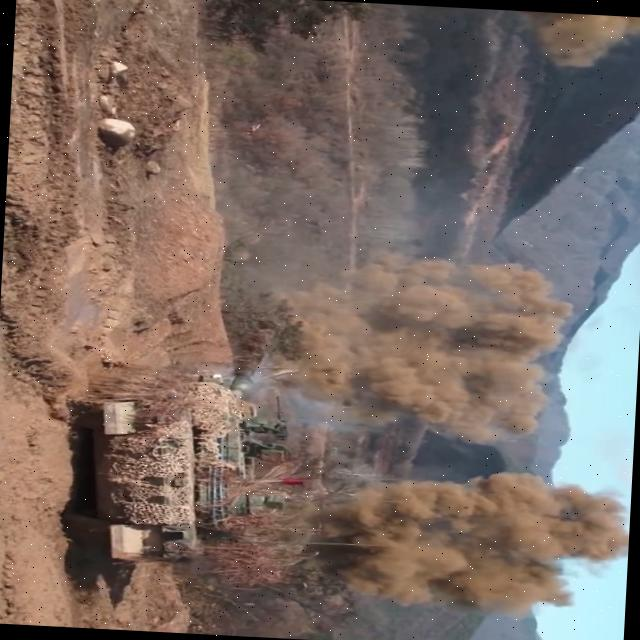korea tank: (52, 306, 316, 589)
